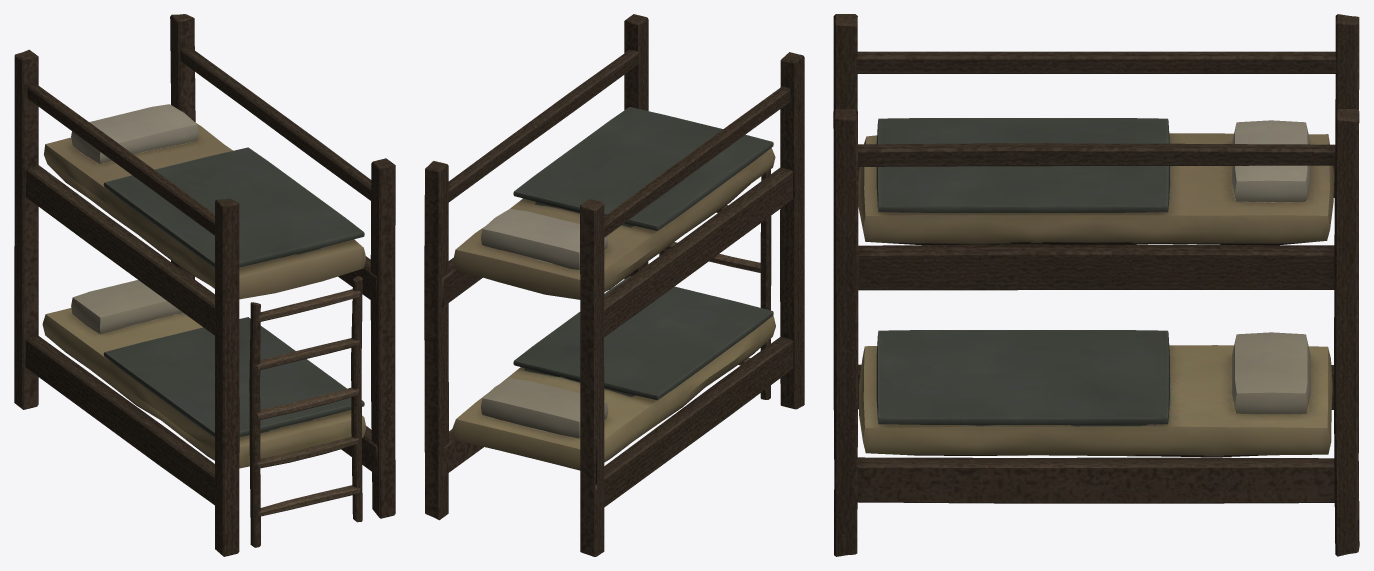
Rendered from bunk_bed.glb.
The picture shows the model from 3 angles, left to right: view 1: azimuth 30°, elevation 25°; view 2: azimuth 150°, elevation 25°; view 3: azimuth 270°, elevation 25°; orthographic projection. The views are drawn at different scales.
Visible parts, largest first — view 1: bunk_bed; view 2: bunk_bed; view 3: bunk_bed.
Part boxes in pixels (x1,y1,x2,y2): bunk_bed: (14,14,395,556); bunk_bed: (424,14,804,556); bunk_bed: (833,14,1359,556).
Bounding box in the file's own units: 0.8879 × 1.72 × 1.87.
Materials: 1 (1 with a texture image).
